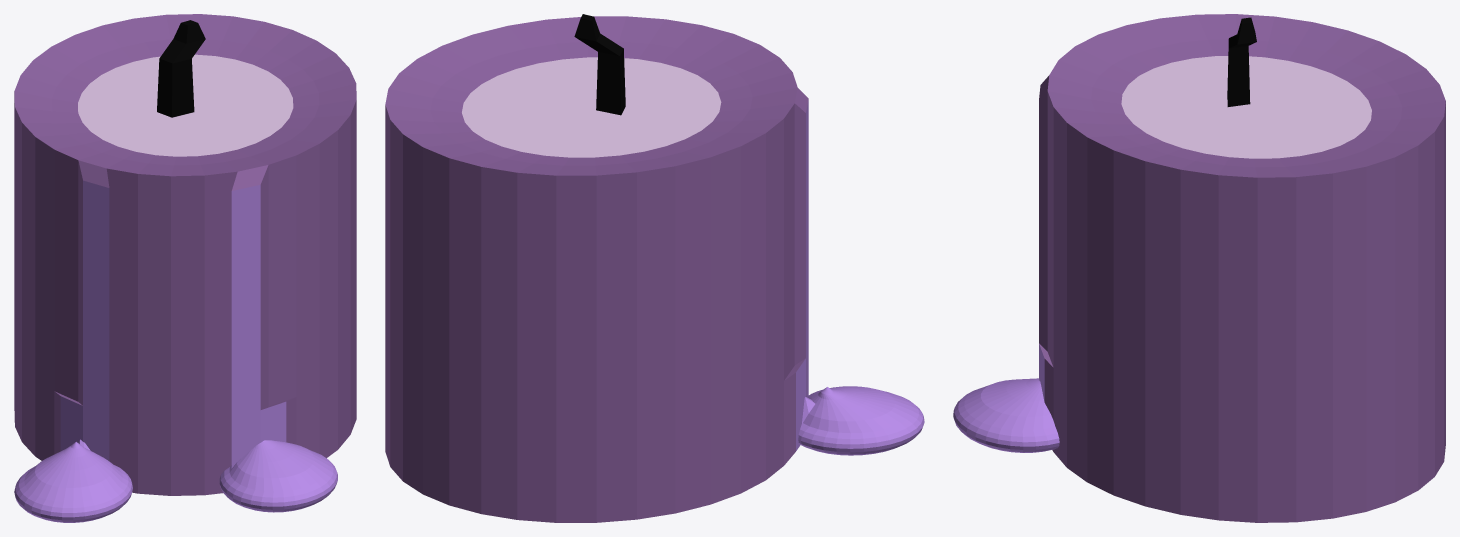
Rendered from vela2.fbx.
3 renders of one model, left to right at view 1: azimuth 30°, elevation 25°; view 2: azimuth 150°, elevation 25°; view 3: azimuth 270°, elevation 25°, orthographic. The views are drawn at different scales.
Visible parts, largest first — view 1: Sphere.001; view 2: Sphere.001; view 3: Sphere.001.
Part boxes in pixels (box(x1,y1,x2,y2)): Sphere.001: box(14, 14, 356, 522); Sphere.001: box(385, 14, 924, 522); Sphere.001: box(953, 14, 1445, 522).
Size of the model in its own units: 133 by 130 by 136.
